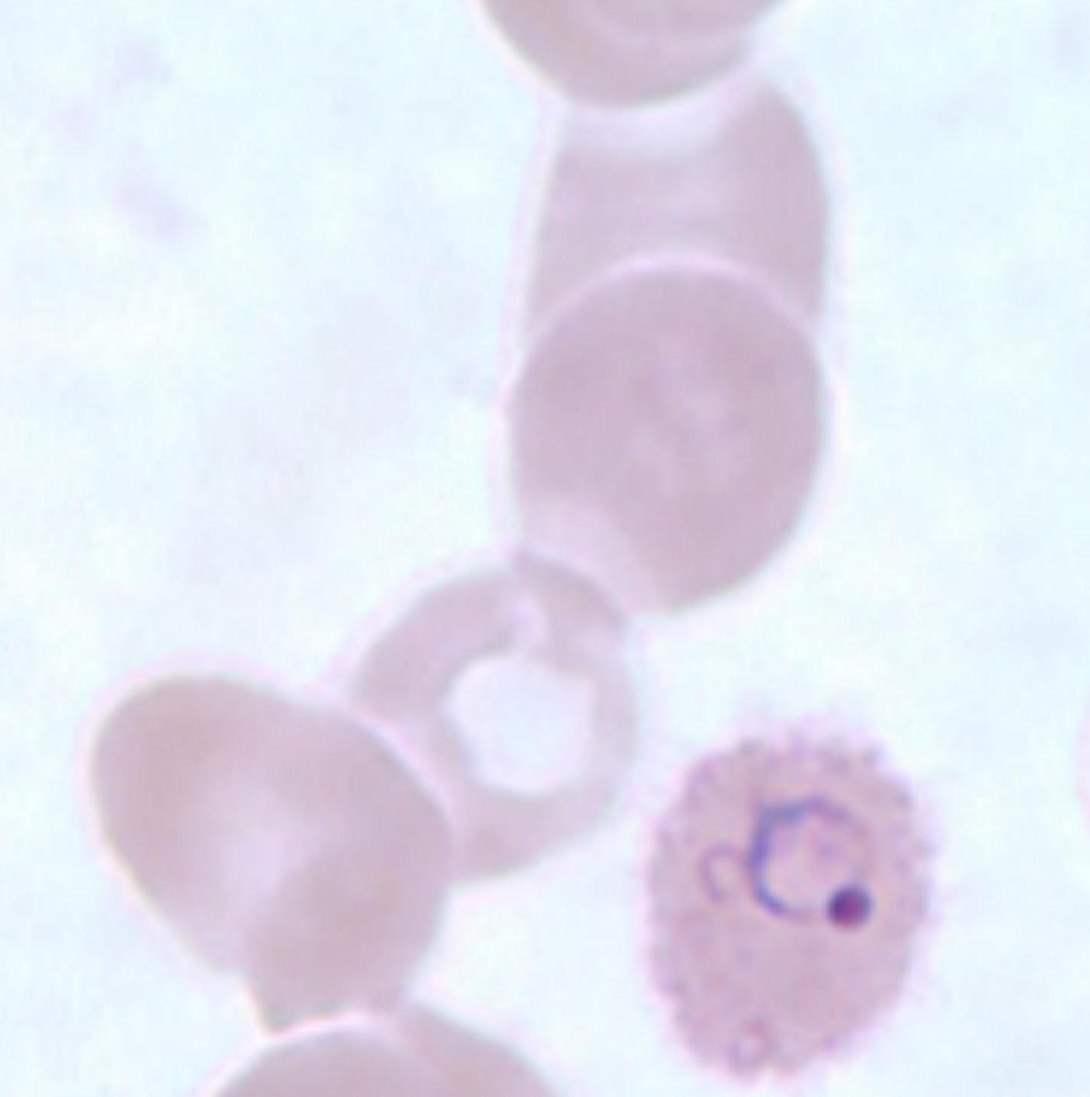Infected: (650, 725, 938, 1087)
Uninfected: (91, 674, 447, 1026), (508, 273, 837, 601), (335, 554, 652, 890), (528, 85, 822, 404)
